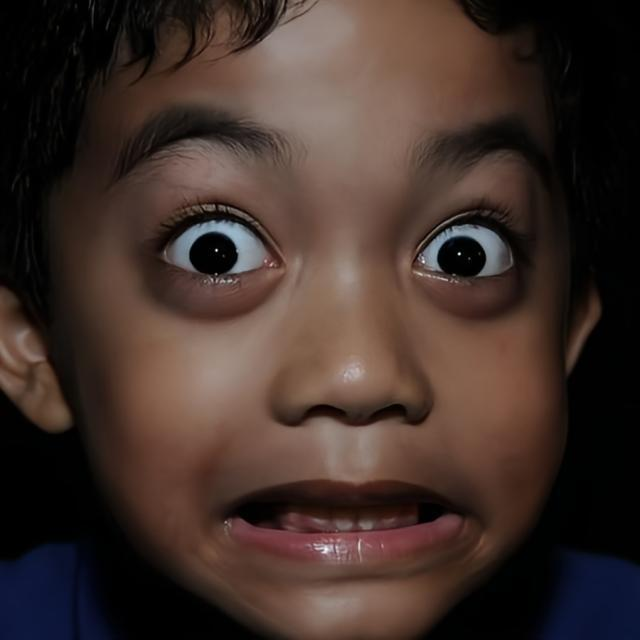fear: (86, 49, 559, 640)
